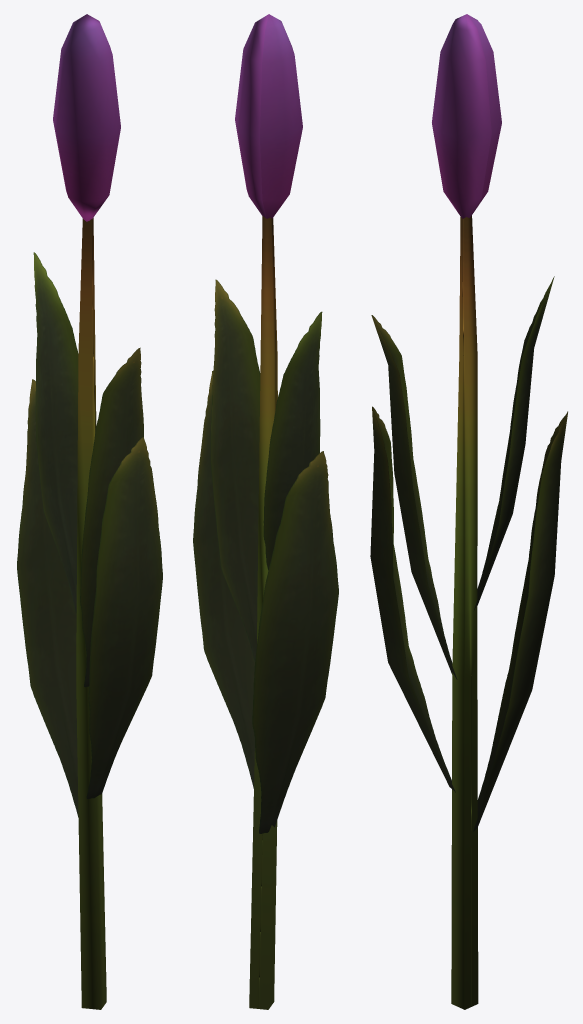
The model's file is Flower_C05.fbx.
The picture shows the model from 3 angles, left to right: view 1: azimuth 30°, elevation 25°; view 2: azimuth 210°, elevation 25°; view 3: azimuth 270°, elevation 25°; orthographic projection.
Parts seen in each view (by area): view 1: Flower_C05; view 2: Flower_C05; view 3: Flower_C05.
Part boxes in pixels (x1,y1,x2,y2): Flower_C05: (17,14,162,1009); Flower_C05: (193,14,338,1009); Flower_C05: (370,14,567,1009).
Size of the model in its own units: 4.11 by 39.22 by 7.15.
